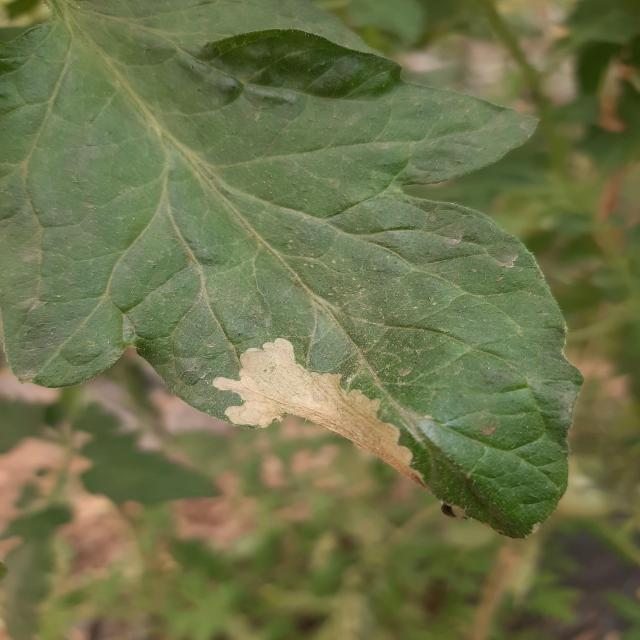Tuta absoluta: (201, 322, 454, 487)
